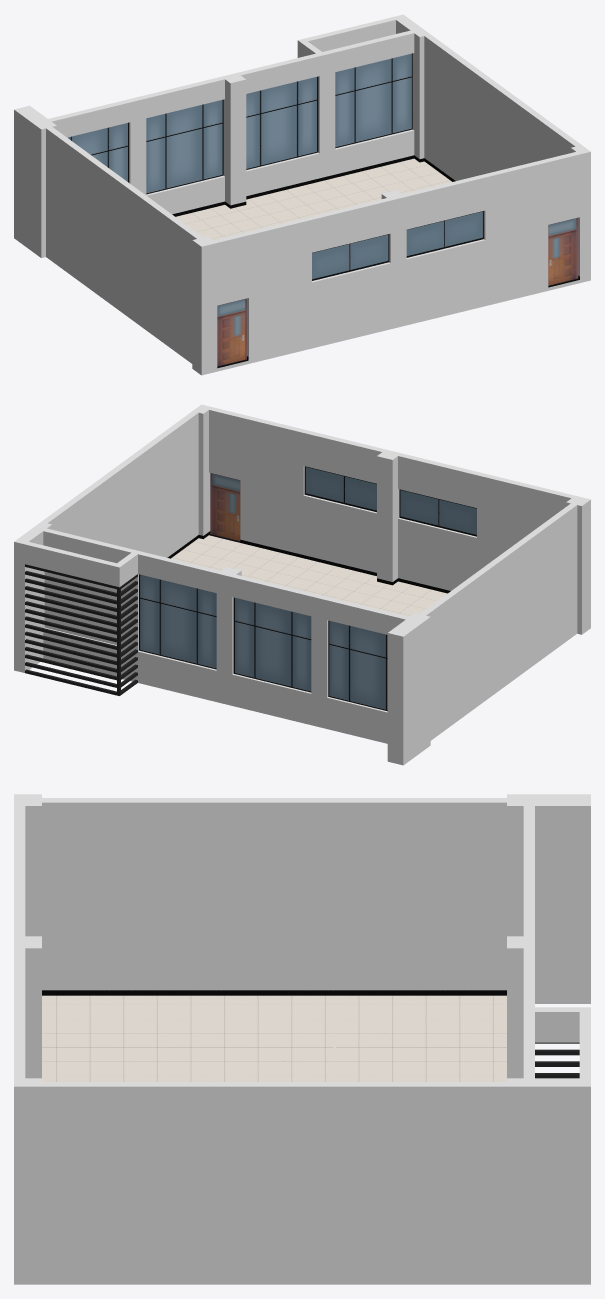
3 views of the same model, one above another, from view 1: azimuth 30°, elevation 25°; view 2: azimuth 150°, elevation 25°; view 3: azimuth 270°, elevation 25° (orthographic). The views are drawn at different scales.
Visible parts, largest first — view 1: 306-308; view 2: 306-308; view 3: 306-308.
Boxes of the visible parts, x1,y1,x2,y2 form: 306-308: (14,14,590,375); 306-308: (14,404,590,765); 306-308: (14,794,590,1284).
Bounding box in the file's own units: 12.35 × 3.9 × 10.3.
Materials: 7 (7 with a texture image).
